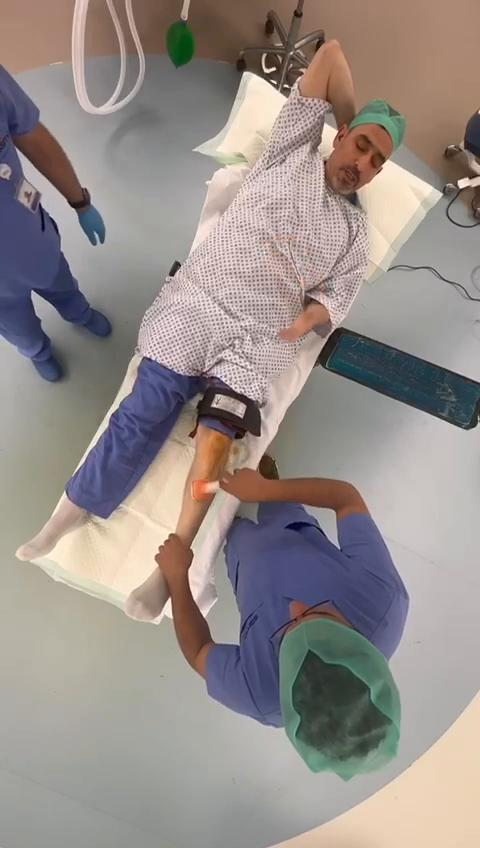patient: (17, 41, 406, 560)
prepstick: (190, 480, 222, 501)
tourniquet: (197, 386, 262, 437)
